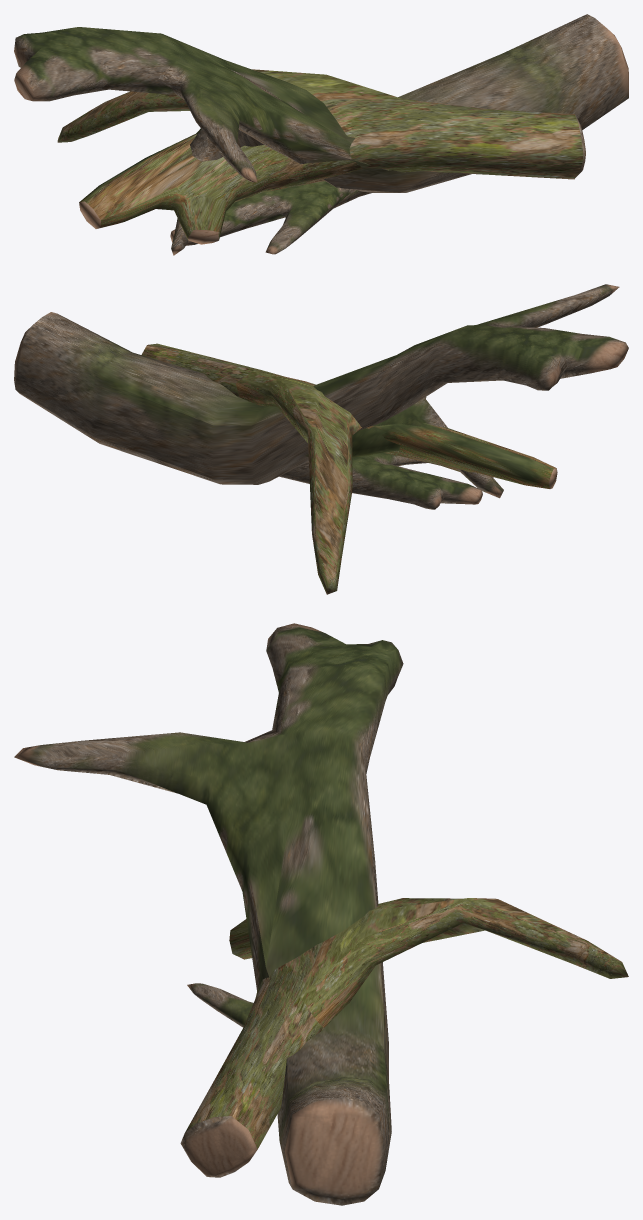
The model's file is stick.fbx.
3 views of the same model, one above another, from view 1: azimuth 30°, elevation 25°; view 2: azimuth 150°, elevation 25°; view 3: azimuth 270°, elevation 25° (orthographic). The views are drawn at different scales.
Visible parts, largest first — view 1: stick3, stick4, stick; view 2: stick3, stick4, stick; view 3: stick3, stick4, stick.
Boxes of the visible parts, bbox=[...] form: stick3: bbox=[14, 14, 628, 255]; stick4: bbox=[57, 69, 585, 244]; stick: bbox=[170, 181, 372, 254]; stick3: bbox=[14, 284, 628, 498]; stick4: bbox=[141, 343, 557, 594]; stick: bbox=[279, 453, 482, 509]; stick3: bbox=[14, 623, 403, 1205]; stick4: bbox=[180, 898, 628, 1177]; stick: bbox=[187, 983, 253, 1027].
Bounding box in the file's own units: 232 × 83.23 × 166.
1 material, 1 textured.
